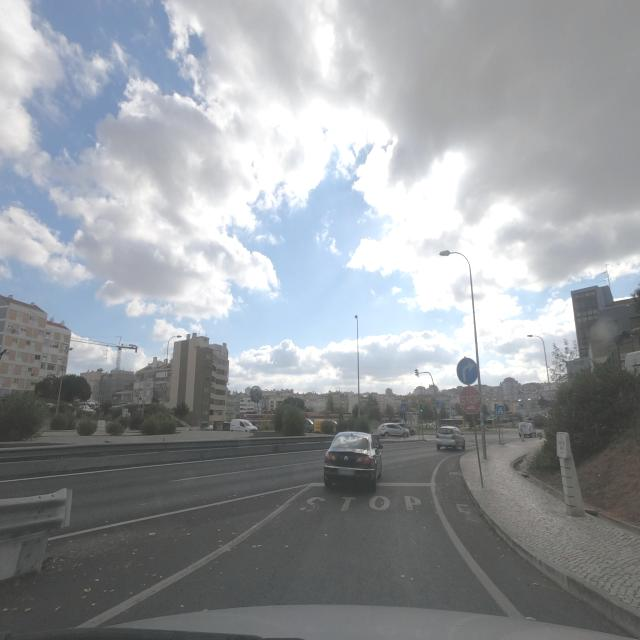car: (323, 431, 383, 491), (435, 426, 467, 452), (377, 422, 412, 438), (230, 418, 258, 432), (518, 421, 534, 438), (200, 420, 212, 431)
